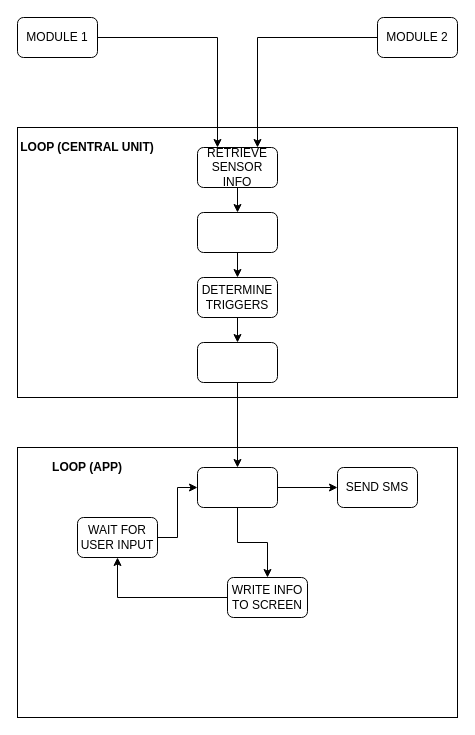
Some shapes in this 475 by 735 pixel diagram are drawn without their labels. The centre of each missing label's shape, as x and y in pixels:
PROCESS INFO: point 237,232
REPORT TO APP: point 237,362
RETRIEVE INFO: point 237,487
